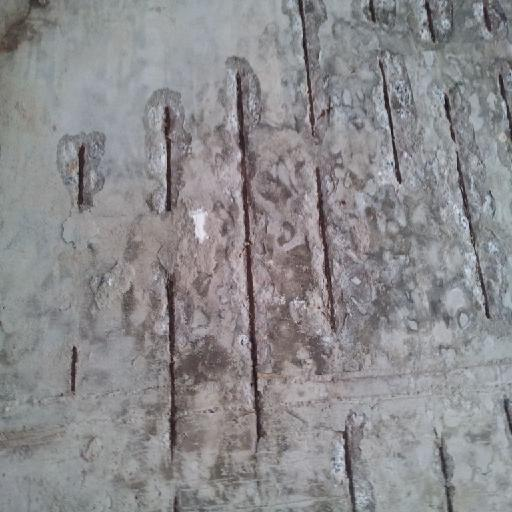exposed_rebar: (236, 71, 263, 442), (458, 150, 490, 318), (315, 166, 336, 330), (380, 59, 401, 184), (165, 273, 177, 464), (298, 0, 314, 136), (438, 437, 454, 512), (343, 425, 354, 504), (500, 74, 512, 140), (444, 93, 458, 144), (165, 106, 171, 210), (77, 144, 84, 210), (70, 346, 78, 394), (426, 0, 435, 40), (503, 398, 512, 434), (482, 0, 491, 32), (370, 0, 376, 22), (172, 495, 179, 512)
spalling: (143, 88, 191, 214), (57, 131, 105, 210)
